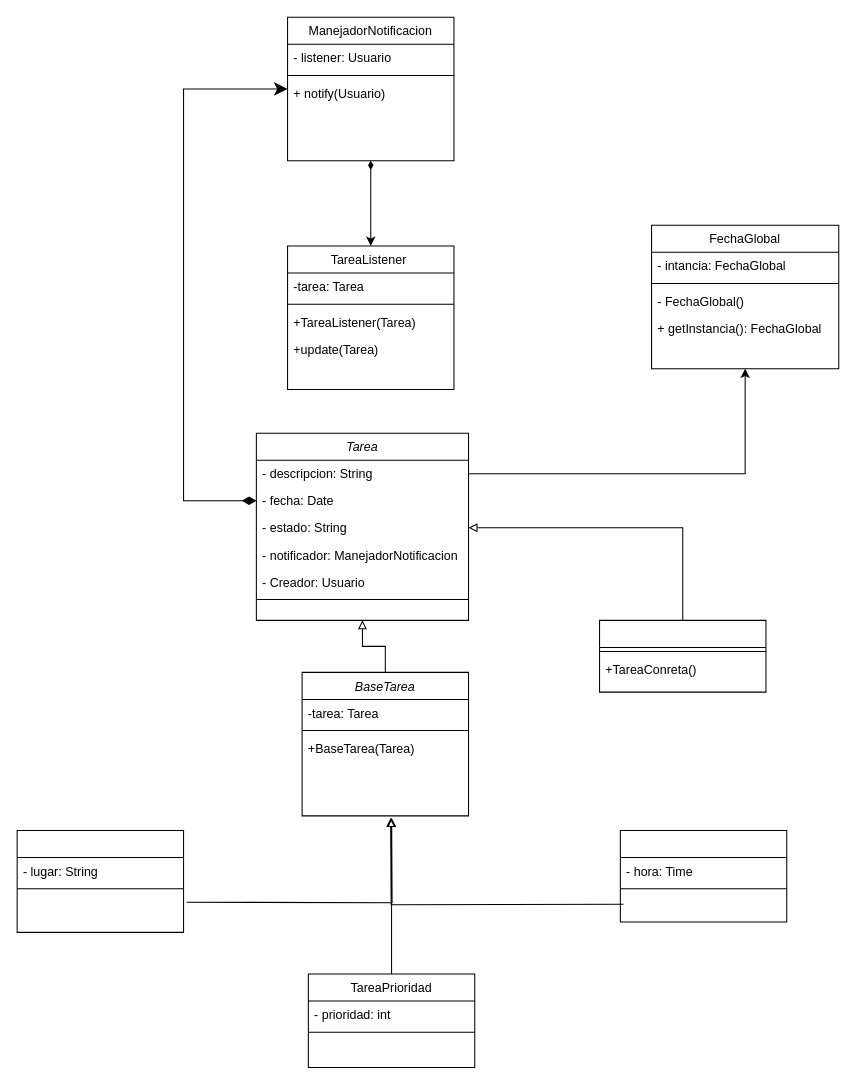
The diagram is 856 pixels wide and 1085 high, and some of its shapes have lost their labels. Here are the shapes that lost their labels. From the top down, the box of each, then its label:
(599, 619, 766, 692): TareaConcreta
(16, 829, 184, 932): TareaLugar
(619, 829, 787, 922): TareaHora
